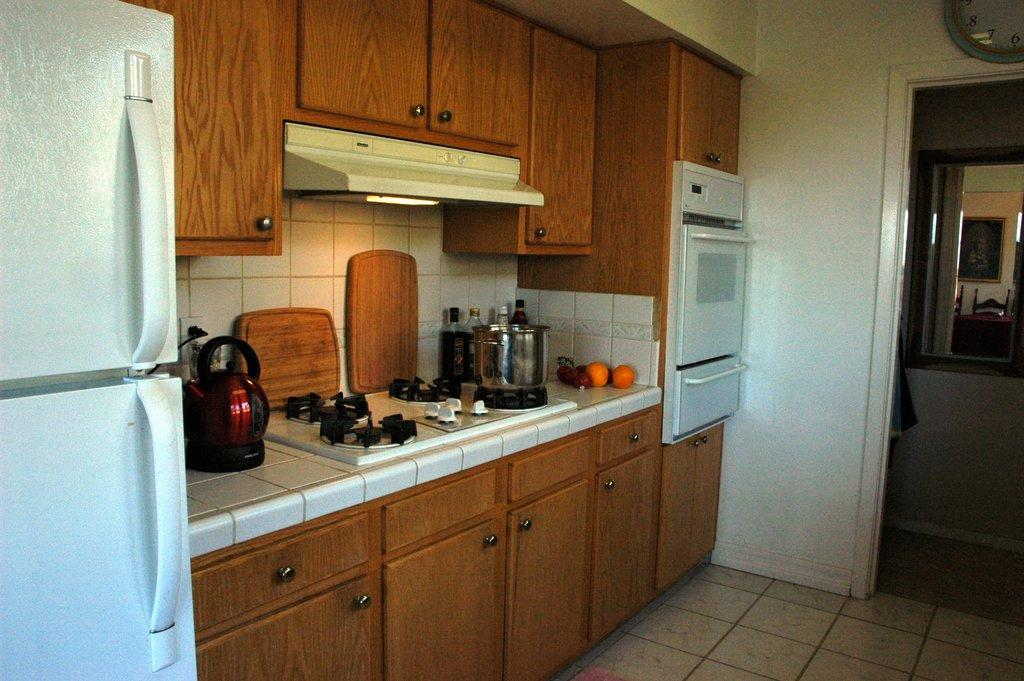cabinet_door: (182, 10, 276, 243), (403, 527, 504, 681), (306, 3, 424, 134), (218, 598, 380, 681), (528, 44, 594, 245), (511, 501, 584, 668), (434, 14, 520, 150), (596, 460, 663, 604), (678, 57, 748, 166), (204, 547, 362, 594), (668, 443, 695, 566), (698, 437, 722, 553), (604, 413, 662, 458)
handle: (111, 106, 179, 361), (128, 381, 190, 634), (685, 358, 749, 387), (694, 223, 754, 249), (246, 202, 278, 242), (406, 94, 428, 124), (482, 527, 504, 556), (278, 563, 300, 589), (598, 472, 620, 497), (706, 148, 728, 172), (353, 593, 375, 616), (516, 511, 534, 538), (438, 104, 456, 129), (628, 428, 646, 446), (536, 223, 551, 244)
